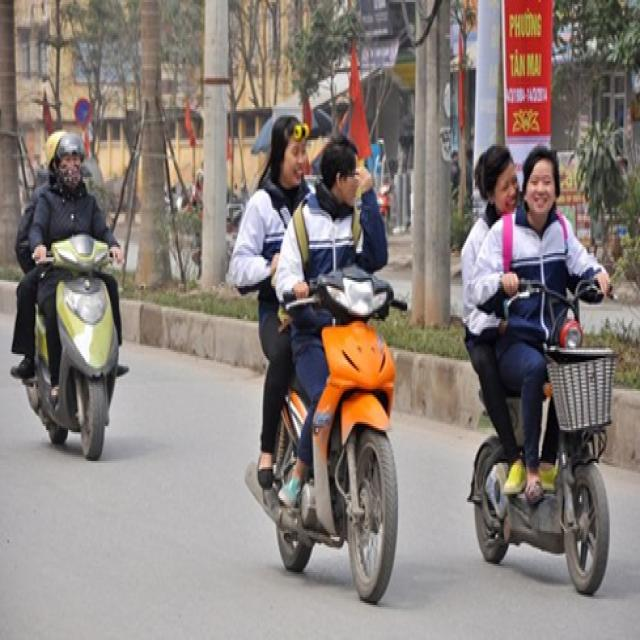Face and Hair: (265, 110, 311, 192), (471, 141, 519, 217), (318, 131, 362, 210), (520, 141, 562, 218)
